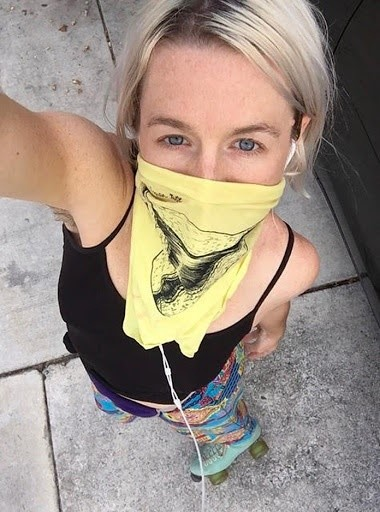face_with_mask: (121, 9, 301, 240)
